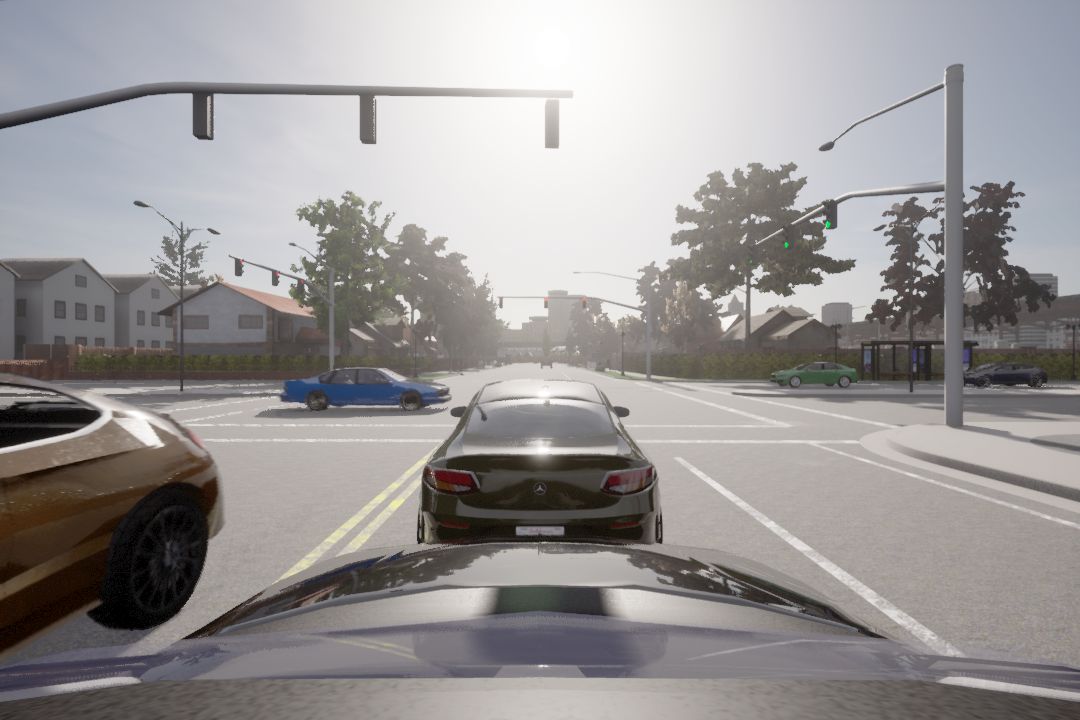TrafficLight: (819, 200, 837, 232), (782, 223, 794, 257), (745, 244, 761, 266), (231, 257, 246, 279), (272, 268, 281, 287), (296, 277, 306, 294), (542, 296, 550, 309), (497, 297, 505, 310), (581, 297, 587, 310)
